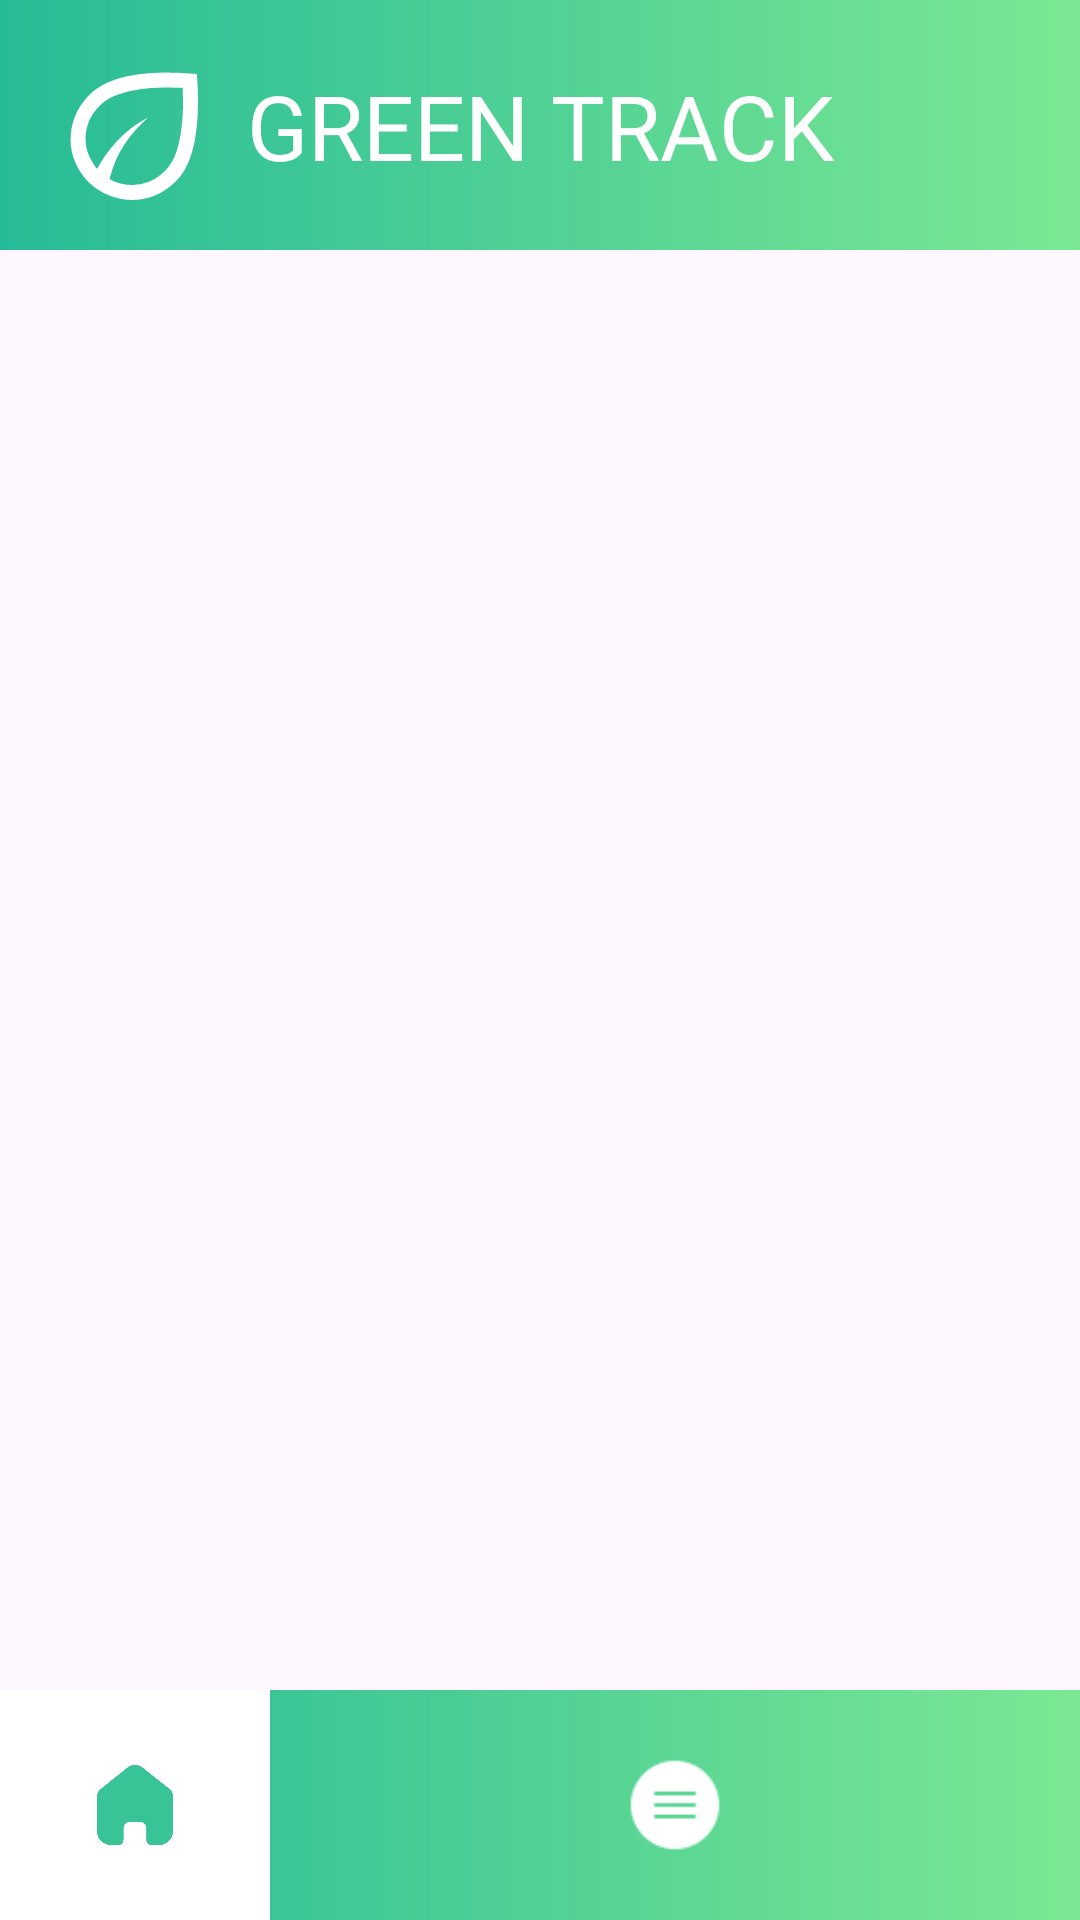

Named icons in this screenshot (1080px x 1920px) and their bounding boxes, detection(x1, y1, x2, y2):
eco: detection(70, 72, 198, 200)
